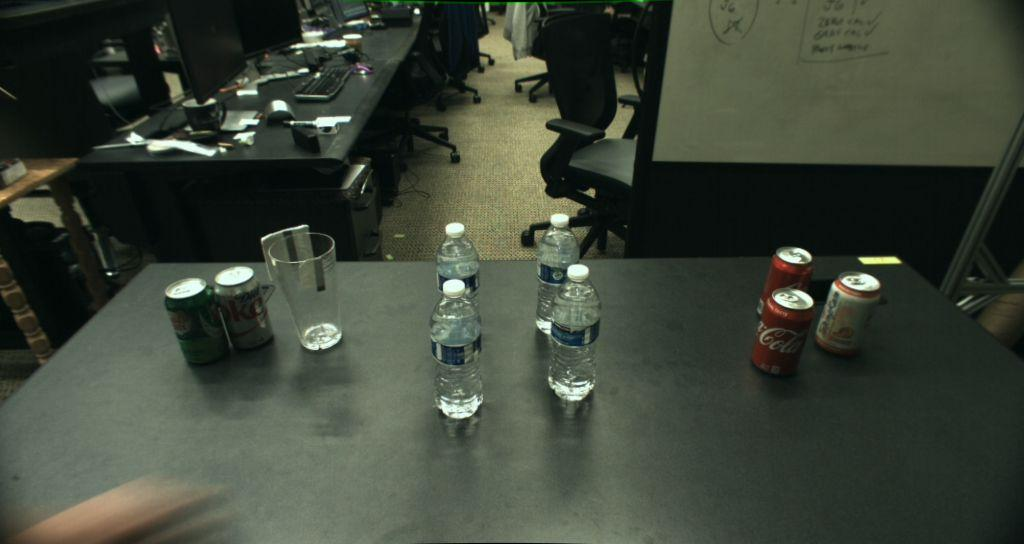can_coke: (751, 290, 812, 376), (756, 245, 812, 323)
can_diet_coke: (212, 265, 275, 350)
can_ginger_ale: (164, 277, 230, 364)
can_talking_rain_peach_nectarine: (815, 269, 881, 357)
water_bottle: (430, 279, 484, 419), (548, 264, 600, 401), (536, 213, 579, 335)
